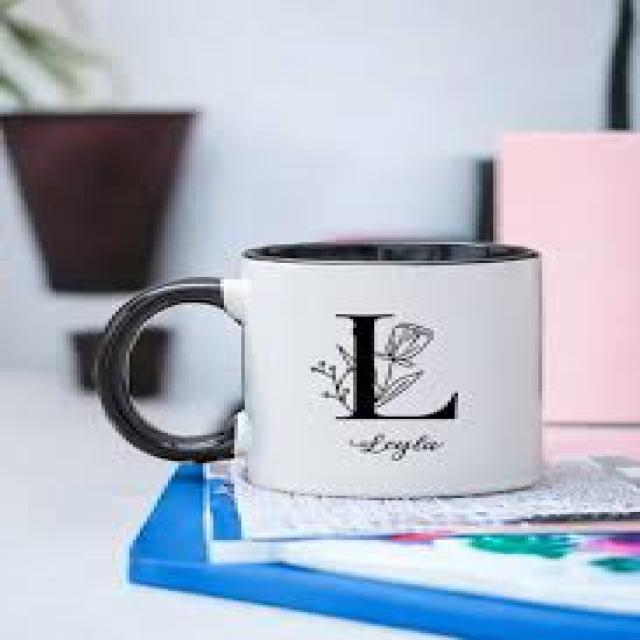taza: (97, 238, 545, 501)
